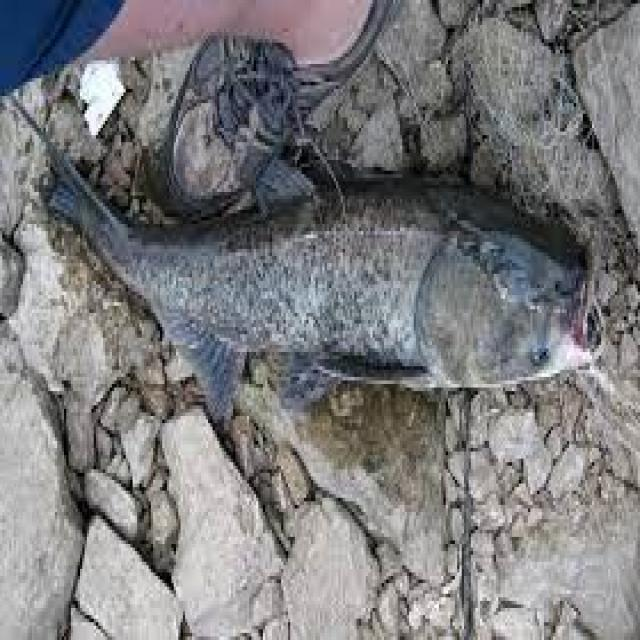Big-Head-Carp: (30, 142, 613, 469)
